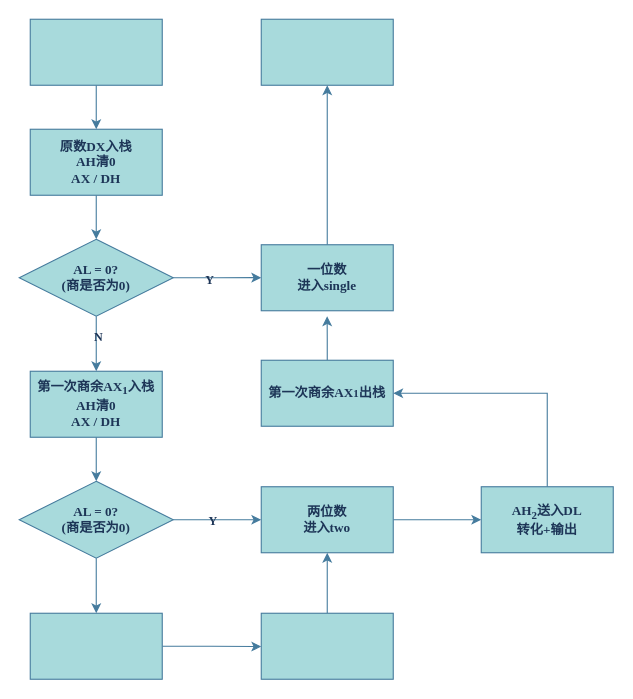
The diagram is 633 pixels wide and 699 high, and some of its shapes have lost their labels. Each missing label, with the centre of its shape:
COPE_DATA 开始: the point at 95,51
COPE_DATA 结束: the point at 326,51
第二次商余AX 2 入栈 AL送入DL 转化+输出: the point at 95,645
第二次商余AX 2 出栈: the point at 326,645
